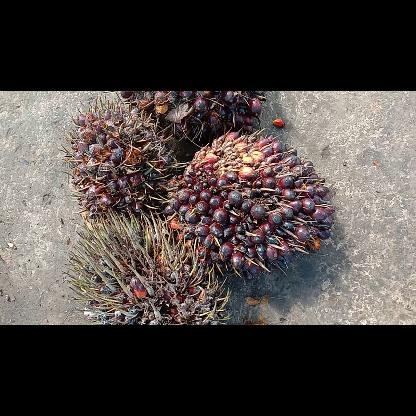Kurang masak: (166, 131, 332, 271), (68, 105, 178, 216)
TBS abnormal: (68, 212, 230, 324)
